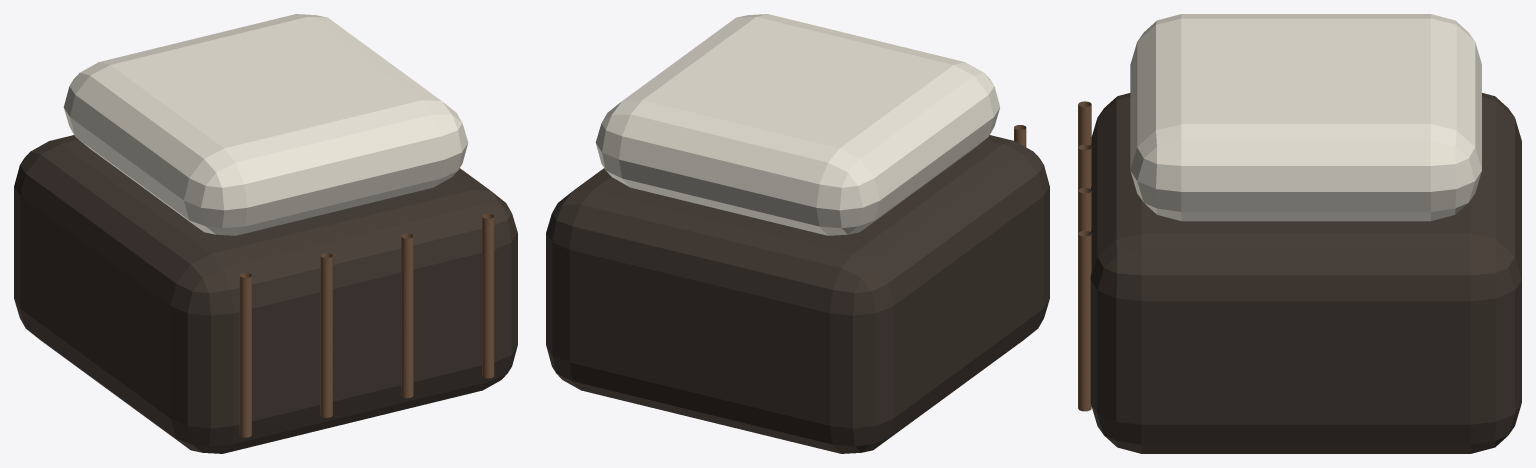
Rendered from riviera-able.glb.
3 renders of one model, left to right at view 1: azimuth 30°, elevation 25°; view 2: azimuth 150°, elevation 25°; view 3: azimuth 270°, elevation 25°, orthographic. The views are drawn at different scales.
Parts seen in each view (by area): view 1: Riviera ottoman base, Riviera ottoman cushion, Riviera front rib 1, Riviera front rib 4, Riviera front rib 3, Riviera front rib 2; view 2: Riviera ottoman base, Riviera ottoman cushion; view 3: Riviera ottoman base, Riviera ottoman cushion, Riviera front rib 4, Riviera front rib 1, Riviera front rib 3, Riviera front rib 2.
Boxes of the visible parts, x1=… form: Riviera ottoman base: x1=14, y1=135, x2=517, y2=453; Riviera ottoman cushion: x1=63, y1=14, x2=468, y2=235; Riviera front rib 1: x1=239, y1=272, x2=251, y2=437; Riviera front rib 4: x1=482, y1=213, x2=494, y2=378; Riviera front rib 3: x1=401, y1=233, x2=413, y2=398; Riviera front rib 2: x1=320, y1=253, x2=332, y2=417; Riviera ottoman base: x1=546, y1=135, x2=1049, y2=453; Riviera ottoman cushion: x1=595, y1=14, x2=1000, y2=235; Riviera ottoman base: x1=1090, y1=93, x2=1521, y2=453; Riviera ottoman cushion: x1=1130, y1=14, x2=1481, y2=221; Riviera front rib 4: x1=1078, y1=231, x2=1091, y2=411; Riviera front rib 1: x1=1078, y1=101, x2=1091, y2=146; Riviera front rib 3: x1=1078, y1=187, x2=1091, y2=233; Riviera front rib 2: x1=1078, y1=144, x2=1091, y2=190.
Size of the model in its own units: 0.76 by 0.6 by 0.782.
